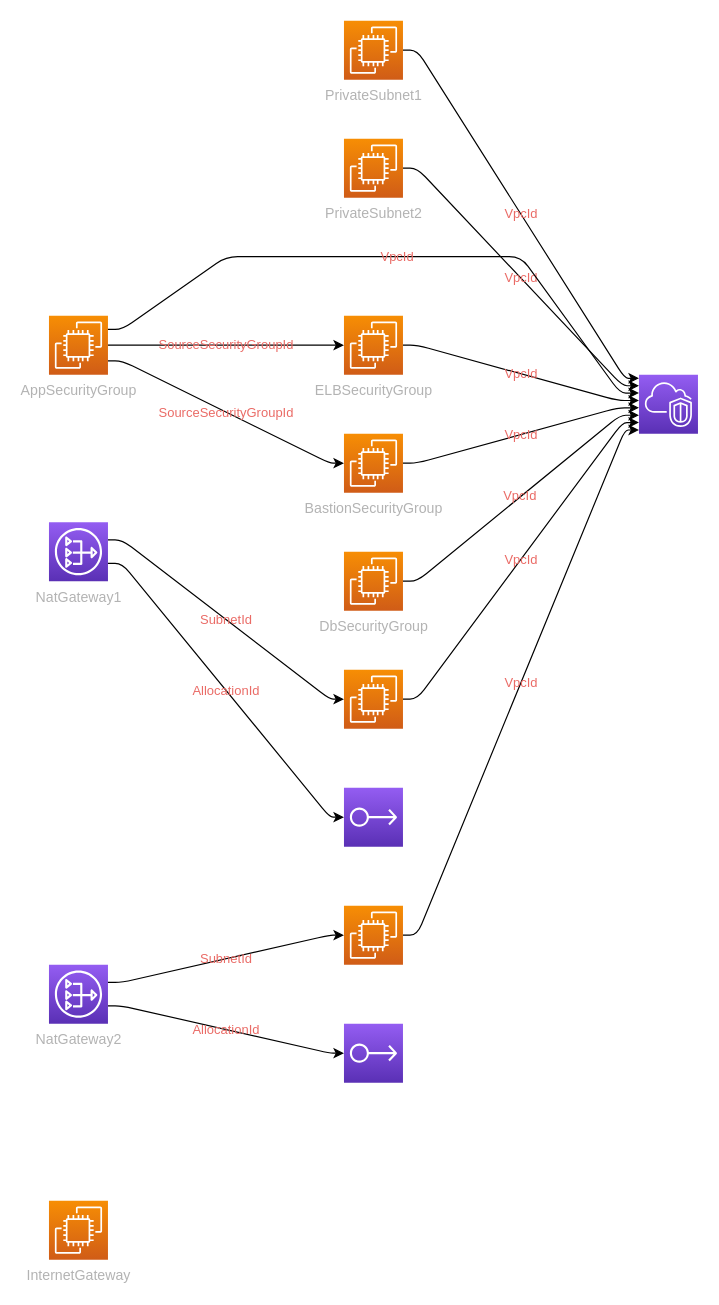
The diagram is 719 pixels wide and 1305 high, and some of its shapes have lost their labels. The centre of each missing label's shape, as x and y in pixels:
"NatEIP1" goes at [373,816].
"NatEIP2" goes at [373,1052].
"PublicSubnet1" goes at [373,698].
"PublicSubnet2" goes at [373,934].
"VPC" goes at [668,403].
